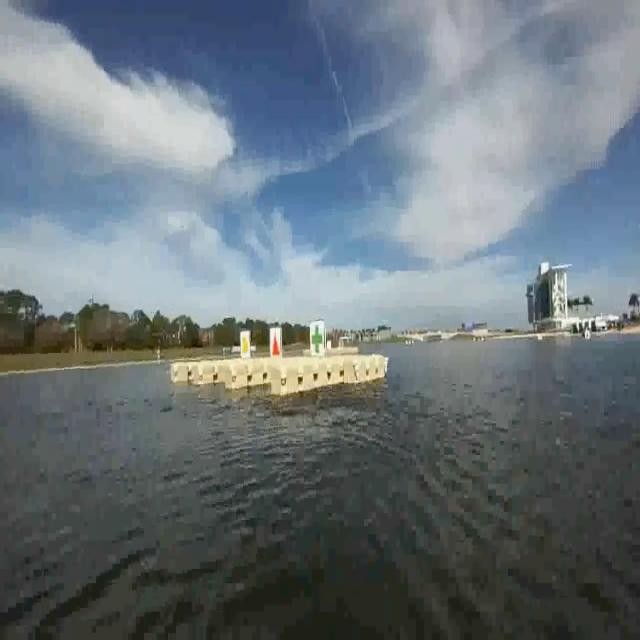blue-cross: (310, 322, 326, 355)
red-dot: (270, 328, 282, 356)
yellow-duck: (242, 329, 251, 357)
